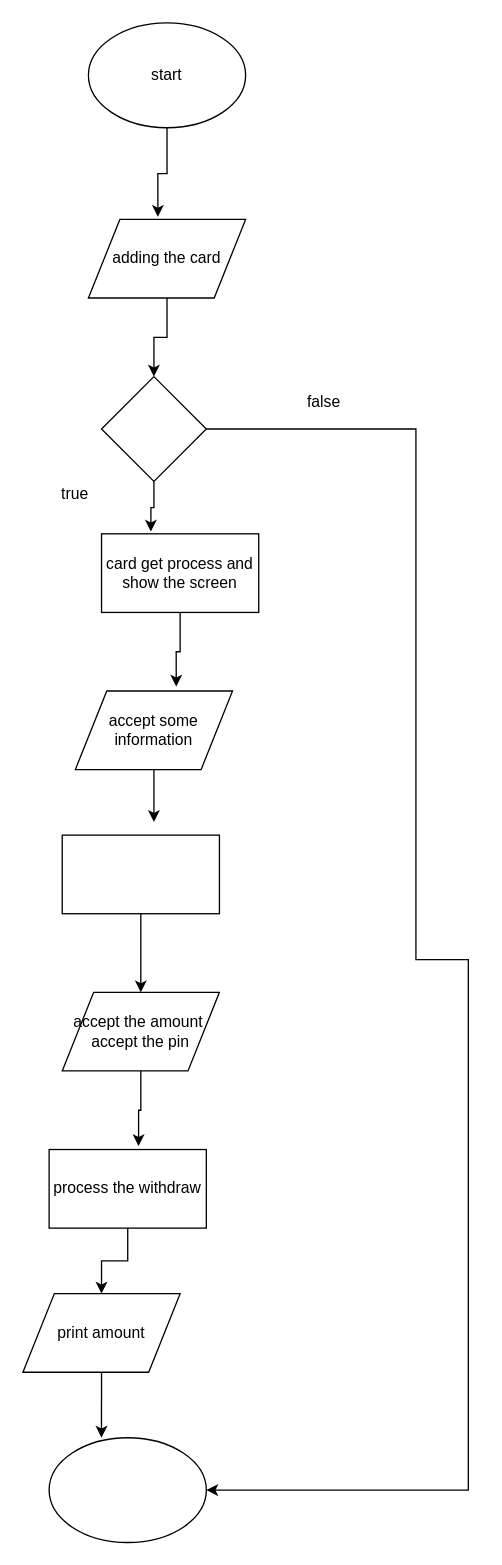
Image size: 502x1565. Some labels were removed from this diagram. Here are the shapes that lost their labels. From the top down, the box of each, then its label:
(100, 375, 206, 481): if card is valid
(61, 834, 219, 914): process and open the account withdraw potal
(48, 1436, 206, 1543): stop
